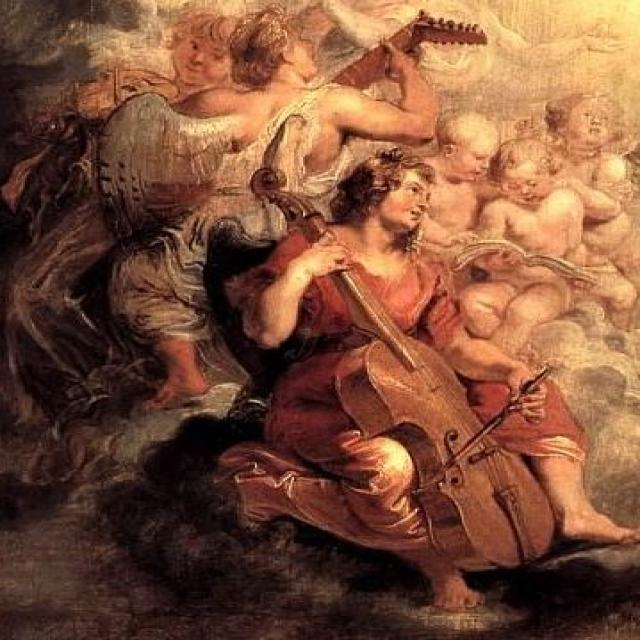angel: (209, 144, 581, 576), (110, 9, 500, 140)
